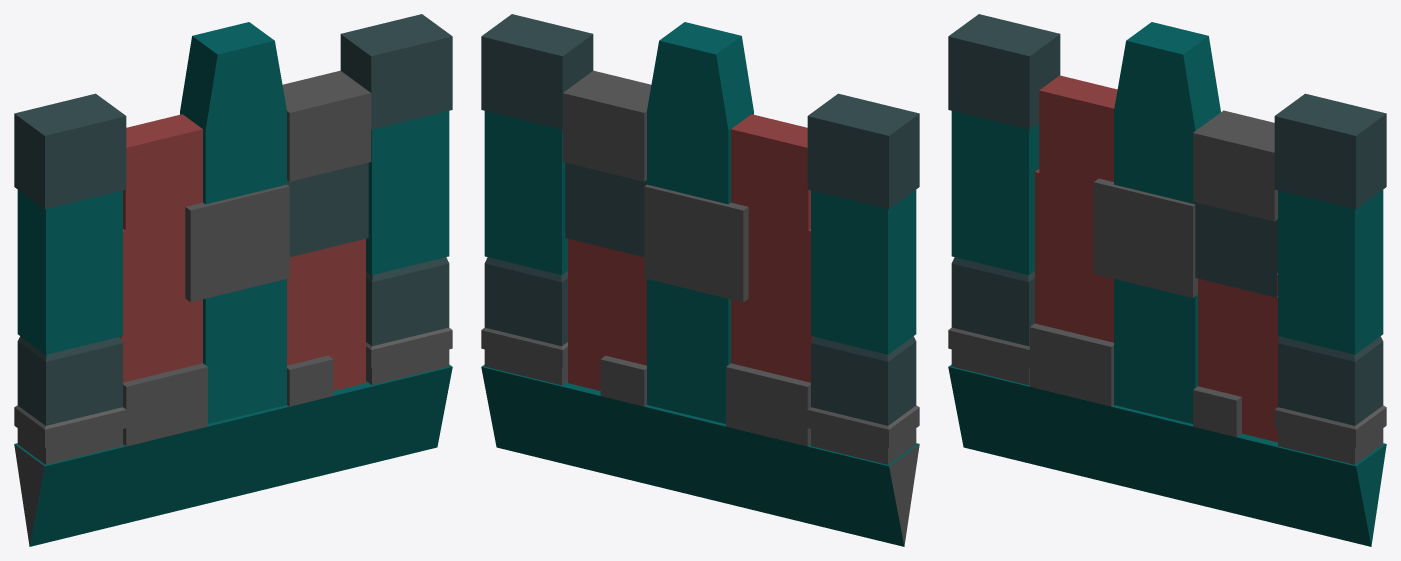
The model's file is 장애물.fbx.
3 views of the same model, side by side, from view 1: azimuth 30°, elevation 25°; view 2: azimuth 150°, elevation 25°; view 3: azimuth 330°, elevation 25° (orthographic).
Visible parts, largest first — view 1: Cube; view 2: Cube; view 3: Cube.
Boxes of the visible parts, x1,y1,x2,y2 form: Cube: [14, 14, 452, 546]; Cube: [481, 14, 919, 546]; Cube: [948, 14, 1386, 546].
Bounding box in the file's own units: 93 × 100 × 12.12.
